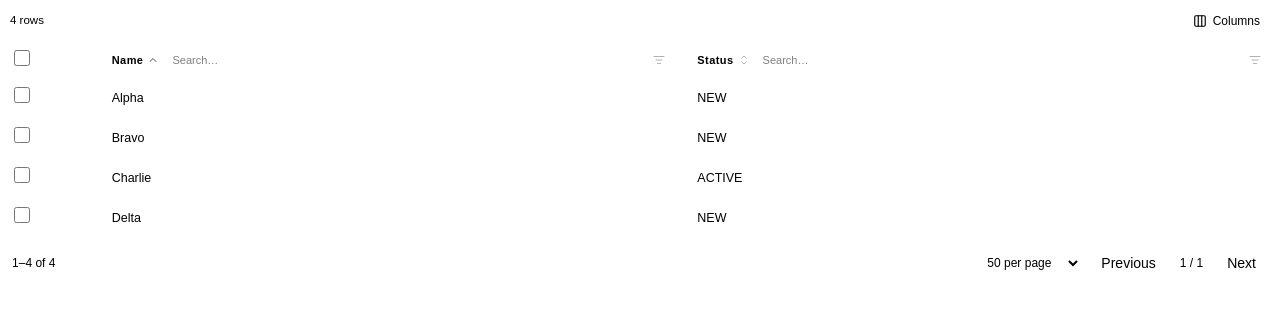
DataTable selection + bulk edit › select-all covers every row and clearing empties the bar
Click the checkbox named "Select all rows on this page".
click(22, 58)  # box [14,50,30,66]
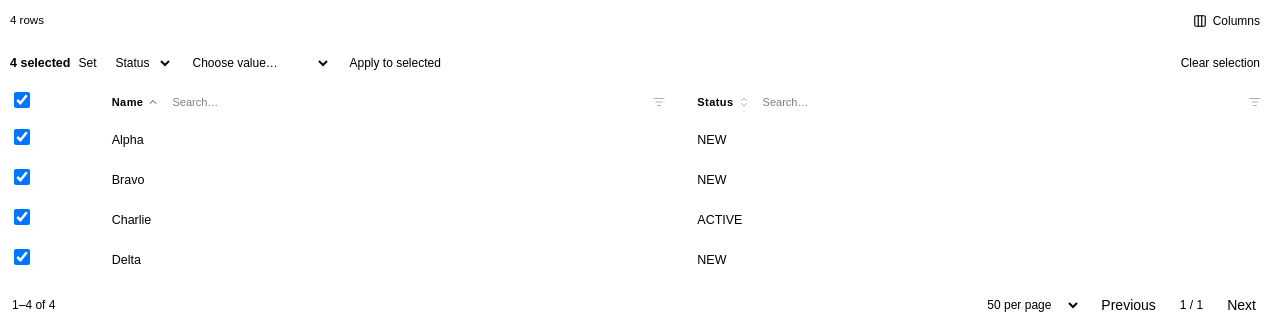
Result: the text "4 selected" is shown at [10,54,70,72]
Click the button "Clear selection".
click(1220, 63)  # box [1171,49,1270,77]
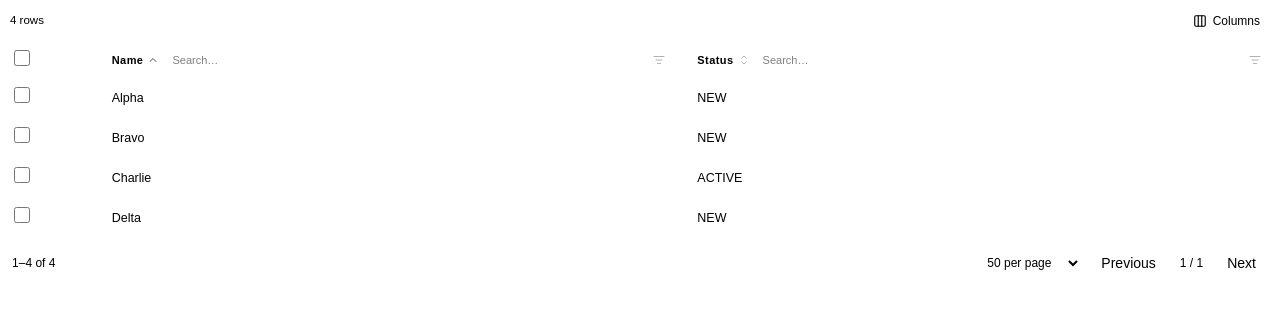
Result: the text "selected" is gone
